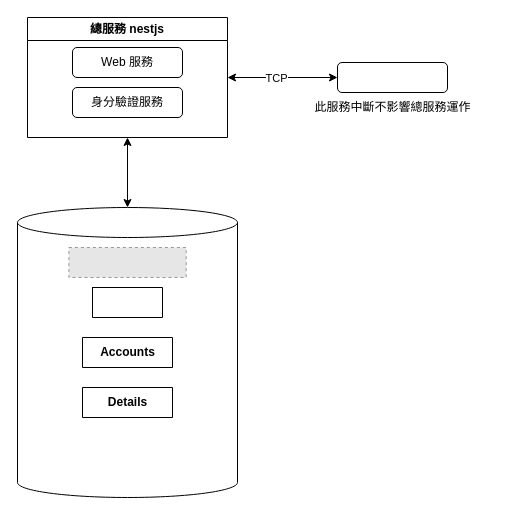
The diagram is 517 pixels wide and 515 high, and some of its shapes have lost their labels. Grey dashed boxes stand in for pictures. Here are the shapes that lost their labels. From the top down, the centre of each, then its label:
point 392,77: 銀行同步服務
point 127,302: Users
